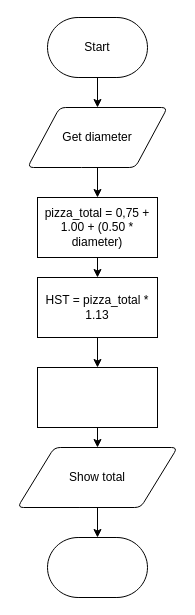
The diagram is 195 pixels wide and 615 high, and some of its shapes have lost their labels. The shapes that lost their labels are listed below. From the top down, each one's centre as x and y in pixels, then its label:
At pixel 97 397: "total = pizza_total + HST".
At pixel 97 567: "Stop".
